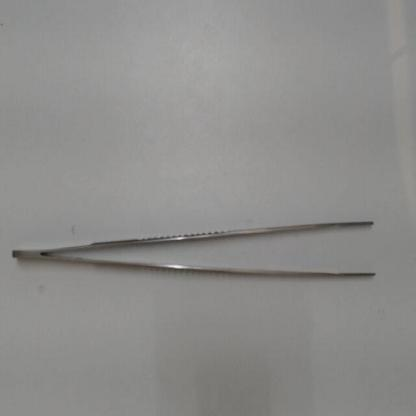DeBakey Dissector: (4, 200, 392, 294)
